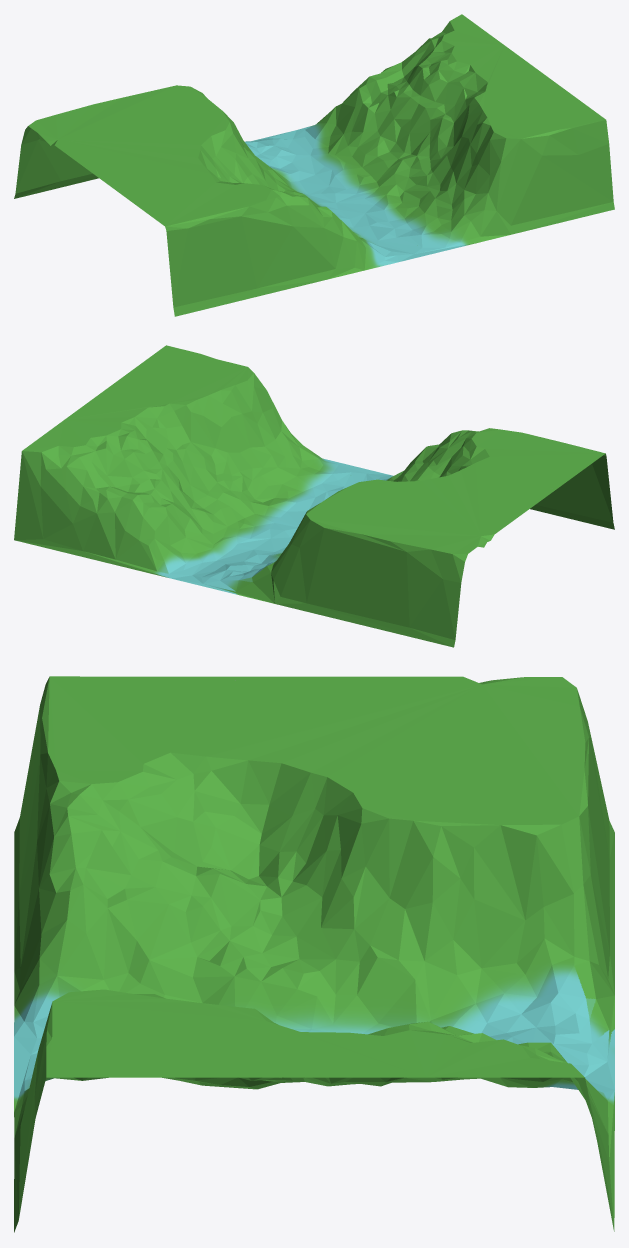
Rendered from creek 1.fbx.
The picture shows the model from 3 angles, top to bottom: view 1: azimuth 30°, elevation 25°; view 2: azimuth 150°, elevation 25°; view 3: azimuth 270°, elevation 25°; orthographic projection. The views are drawn at different scales.
Visible parts, largest first — view 1: Landscape.002; view 2: Landscape.002; view 3: Landscape.002.
Boxes of the visible parts, x1,y1,x2,y2 form: Landscape.002: (14, 14, 614, 316); Landscape.002: (14, 345, 614, 647); Landscape.002: (14, 676, 614, 1232).
Size of the model in its own units: 1012 by 183 by 639.
Materials: 1 (1 with a texture image).
